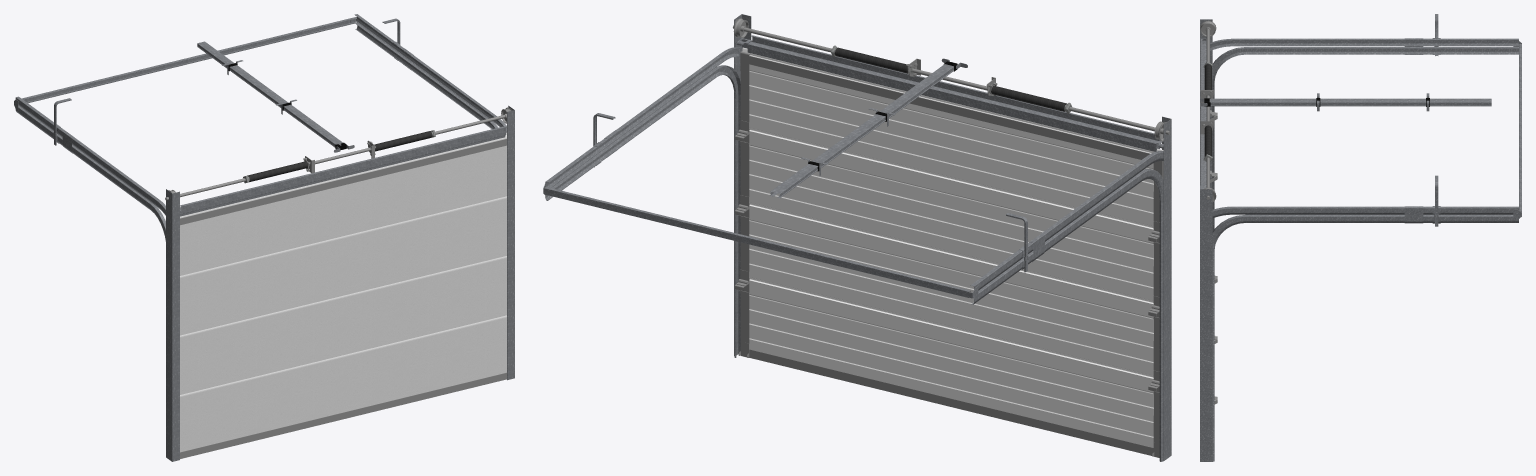
The picture shows the model from 3 angles, left to right: view 1: azimuth 30°, elevation 25°; view 2: azimuth 150°, elevation 25°; view 3: azimuth 270°, elevation 25°; orthographic projection. The views are drawn at different scales.
Parts seen in each view (by area): view 1: Shape012, Shape010, Shape008, Shape014, Line002, Line070, Rectangle010, Rectangle006, Rectangle001, Line066, Rectangle004, Line034 (+3 smaller); view 2: Shape008, Shape010, Shape012, Shape014, Line002, Line005, Rectangle001, Rectangle010, Rectangle006, Line033, Line070, Rectangle004 (+5 smaller); view 3: Line066, Line005, Line033, Line034, Line006, Rectangle004, Line002, Rectangle001, Line019.
Boxes of the visible parts, x1,y1,x2,y2 form: Shape012: (180,196,506,335); Shape010: (180,256,506,394); Shape008: (180,315,506,452); Shape014: (180,132,506,275); Line002: (180,126,506,216); Line070: (166,189,179,461); Rectangle010: (180,372,506,458); Rectangle006: (180,139,506,225); Rectangle001: (22,17,356,103); Line066: (507,105,514,380); Rectangle004: (197,41,342,147); Line034: (15,96,165,215); Shape008: (749,277,1153,447); Shape010: (749,202,1153,375); Shape012: (749,128,1153,301); Shape014: (742,47,1163,226); Line002: (747,35,1159,151); Line005: (545,65,740,357); Rectangle001: (544,187,970,297); Rectangle010: (749,349,1153,455); Rectangle006: (749,56,1150,159); Line033: (972,168,1163,461); Line070: (1162,116,1171,460); Rectangle004: (770,64,953,198); Line066: (1200,186,1212,461); Line005: (1212,214,1518,461); Line033: (1210,47,1518,231); Line034: (1210,38,1518,50); Line006: (1212,206,1518,217); Rectangle004: (1209,98,1491,106); Line002: (1200,38,1206,189); Rectangle001: (1519,44,1521,212); Line019: (1404,206,1423,223).
Size of the model in its own units: 3027 by 2293 by 2393.
Materials: 9 (5 with a texture image).
